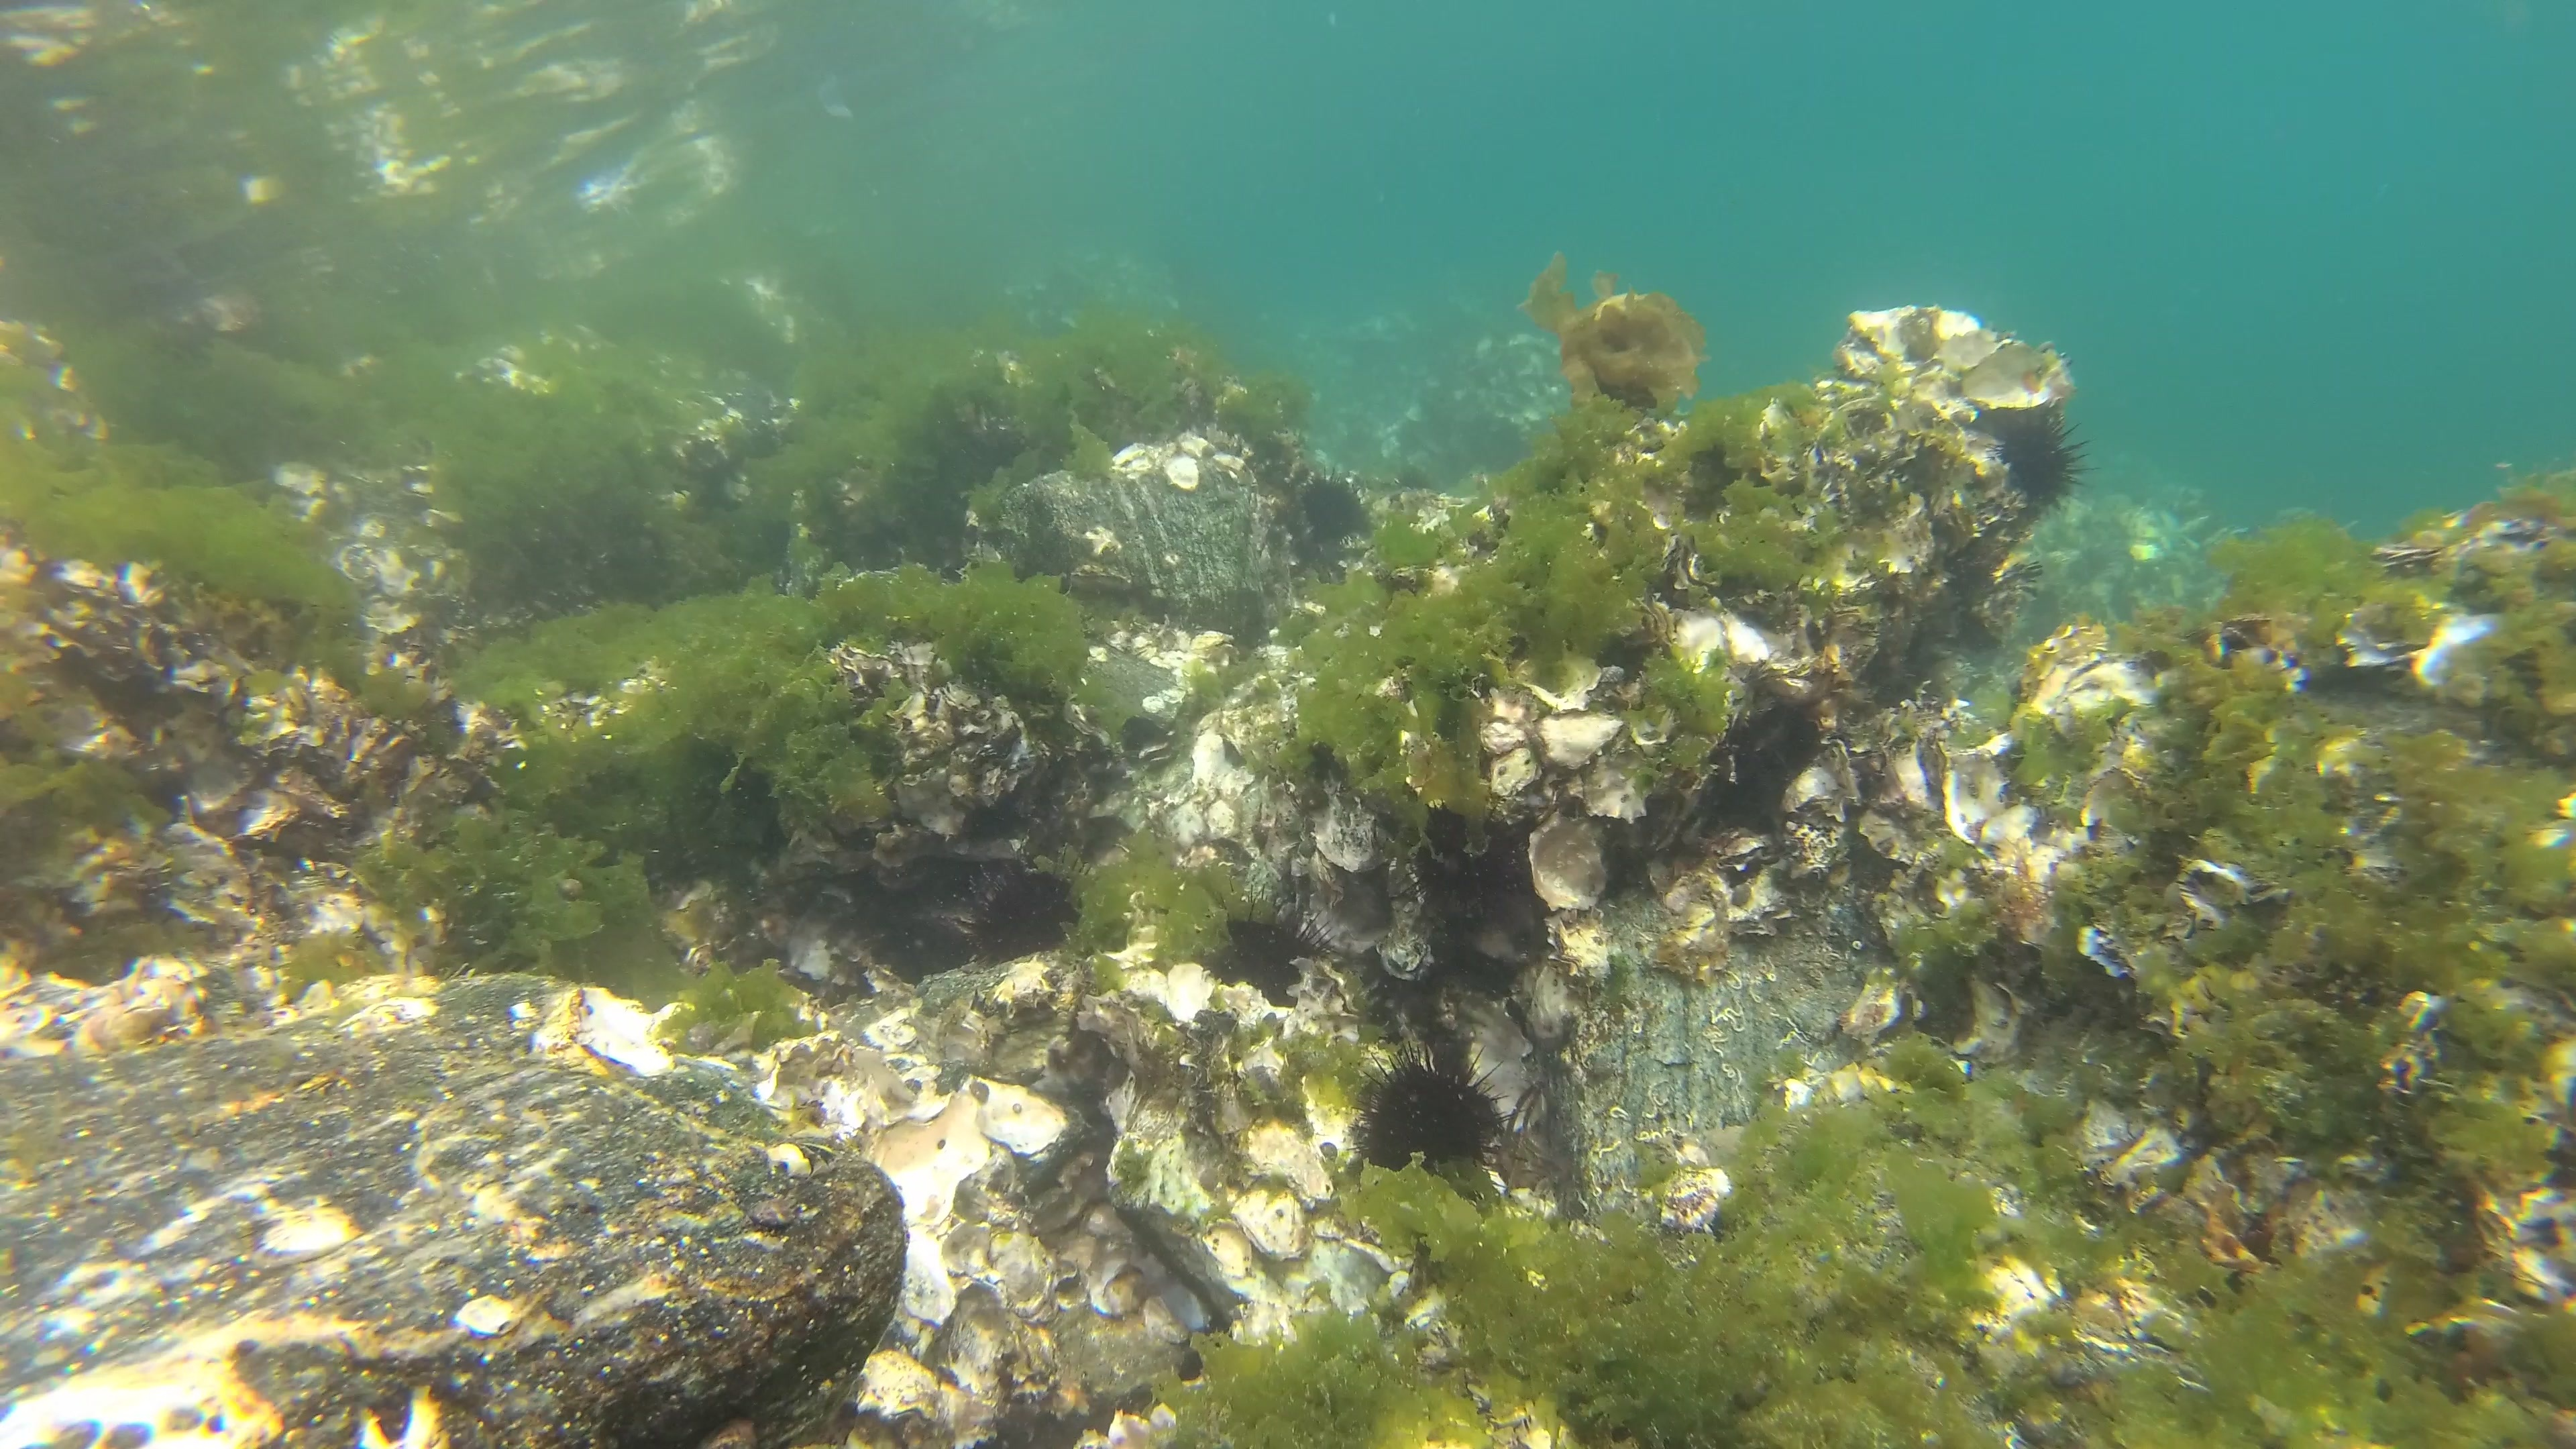echinus: (1346, 1044, 1530, 1210), (1976, 370, 2097, 522), (1205, 895, 1332, 1008), (975, 862, 1079, 964), (1295, 462, 1371, 554)
